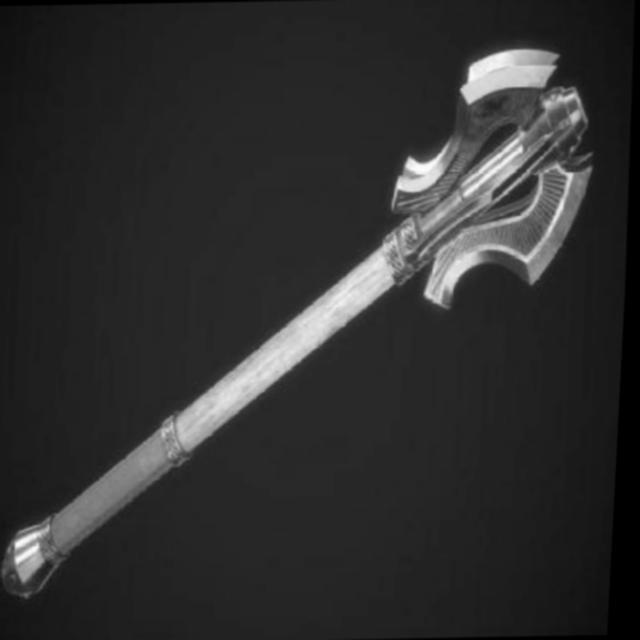weapon: (0, 41, 607, 600)
